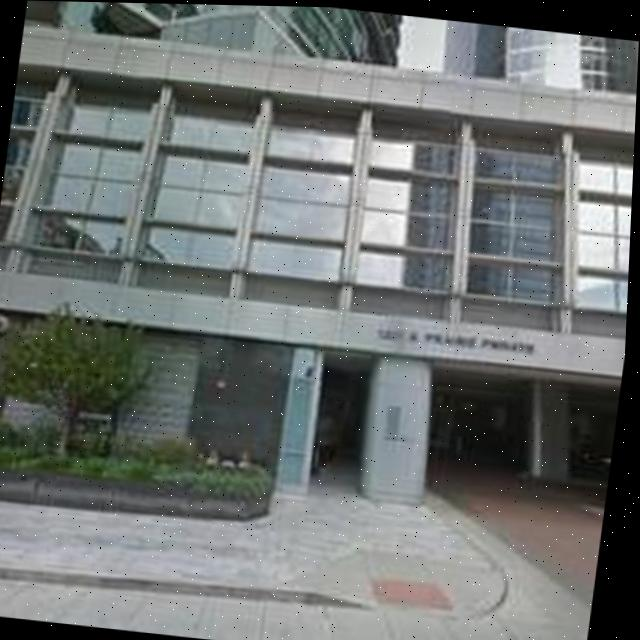building: (0, 0, 640, 512)
